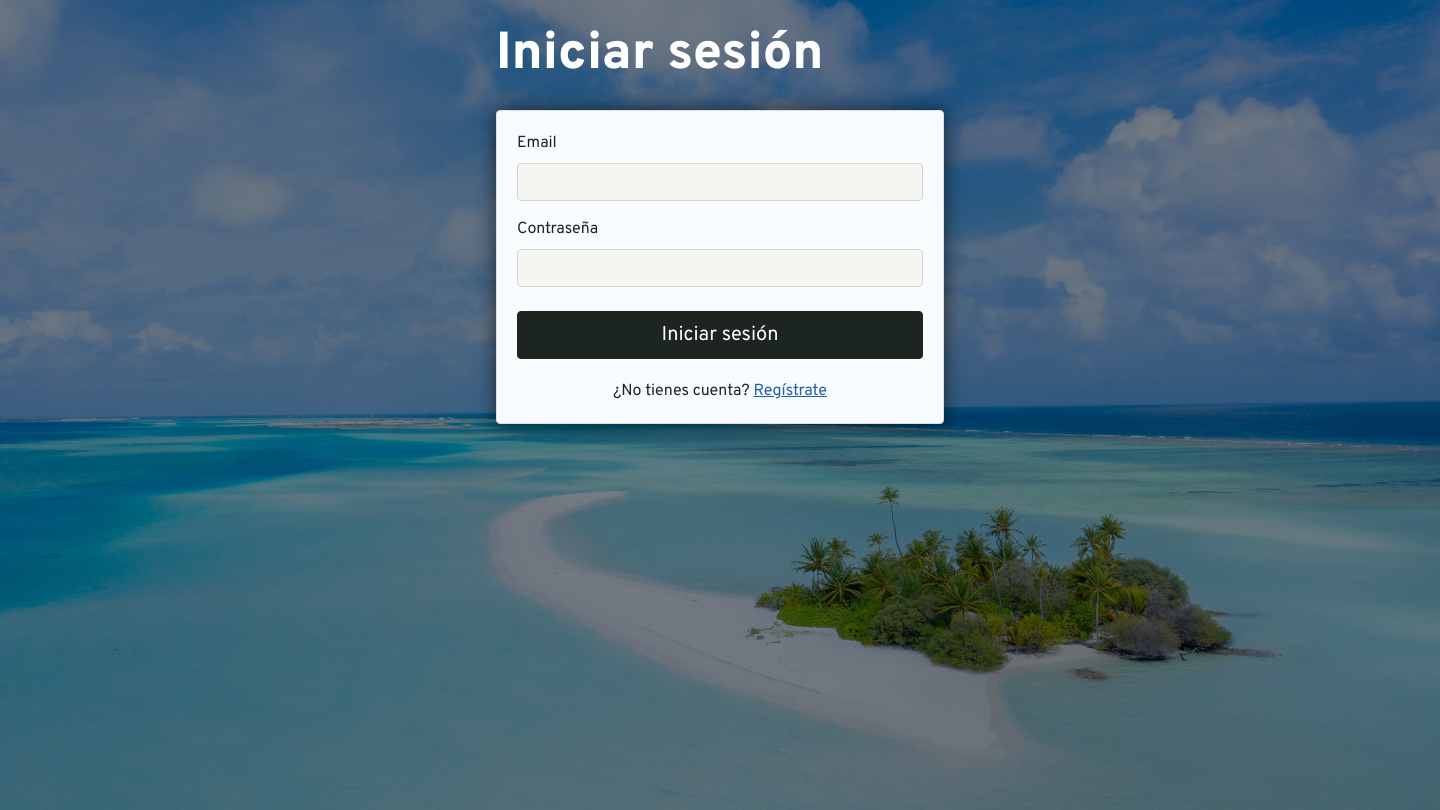
Scenario: B2 LoginPage › the button is disabled while the request is pending
In the field labelled "Email": (720, 182) [517,163,923,201], type "ana@example.com"
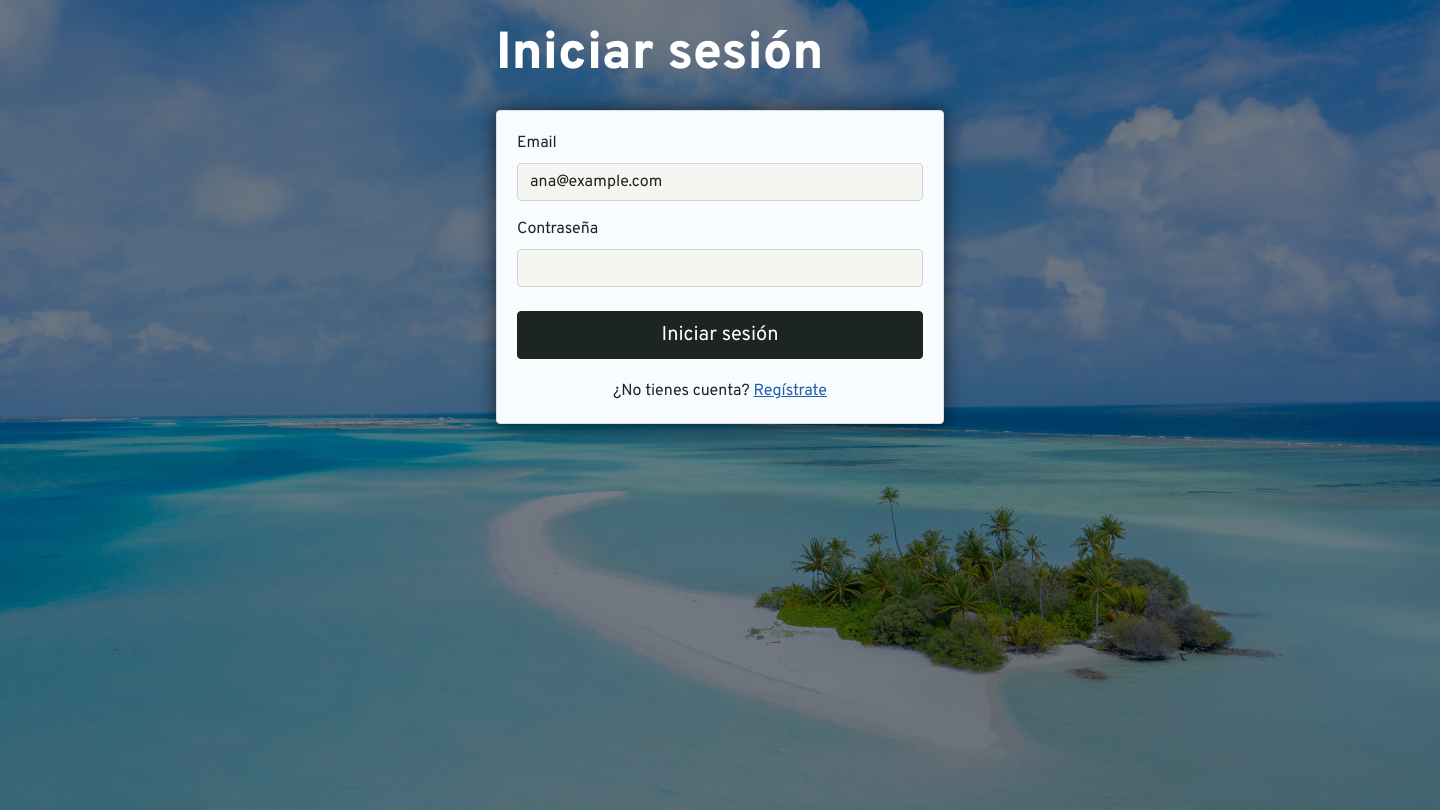
In the password field labelled "Contraseña": (720, 268) [517,249,923,287], type "secret-pass"
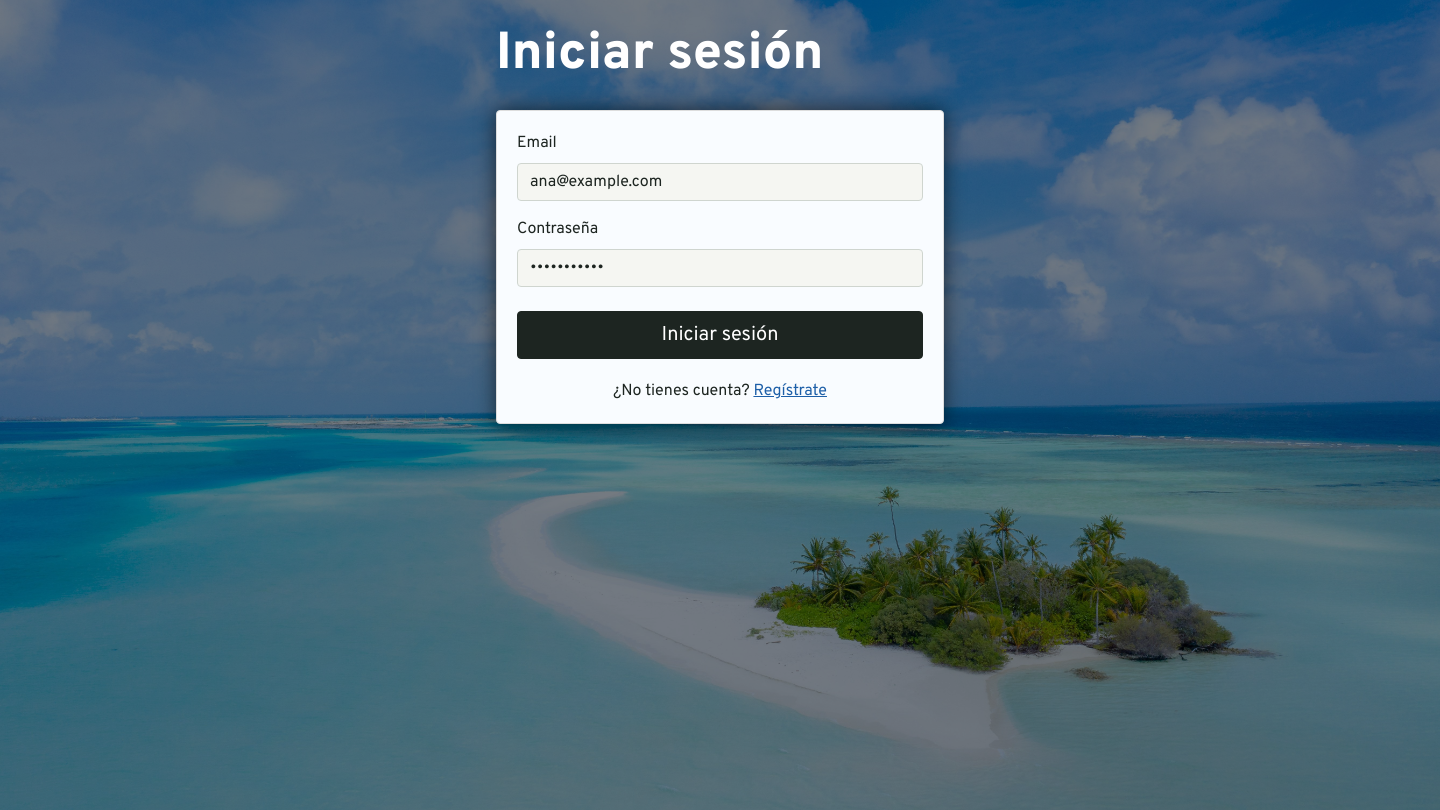
Click the button "Iniciar sesión": (720, 335) [517,311,923,359]
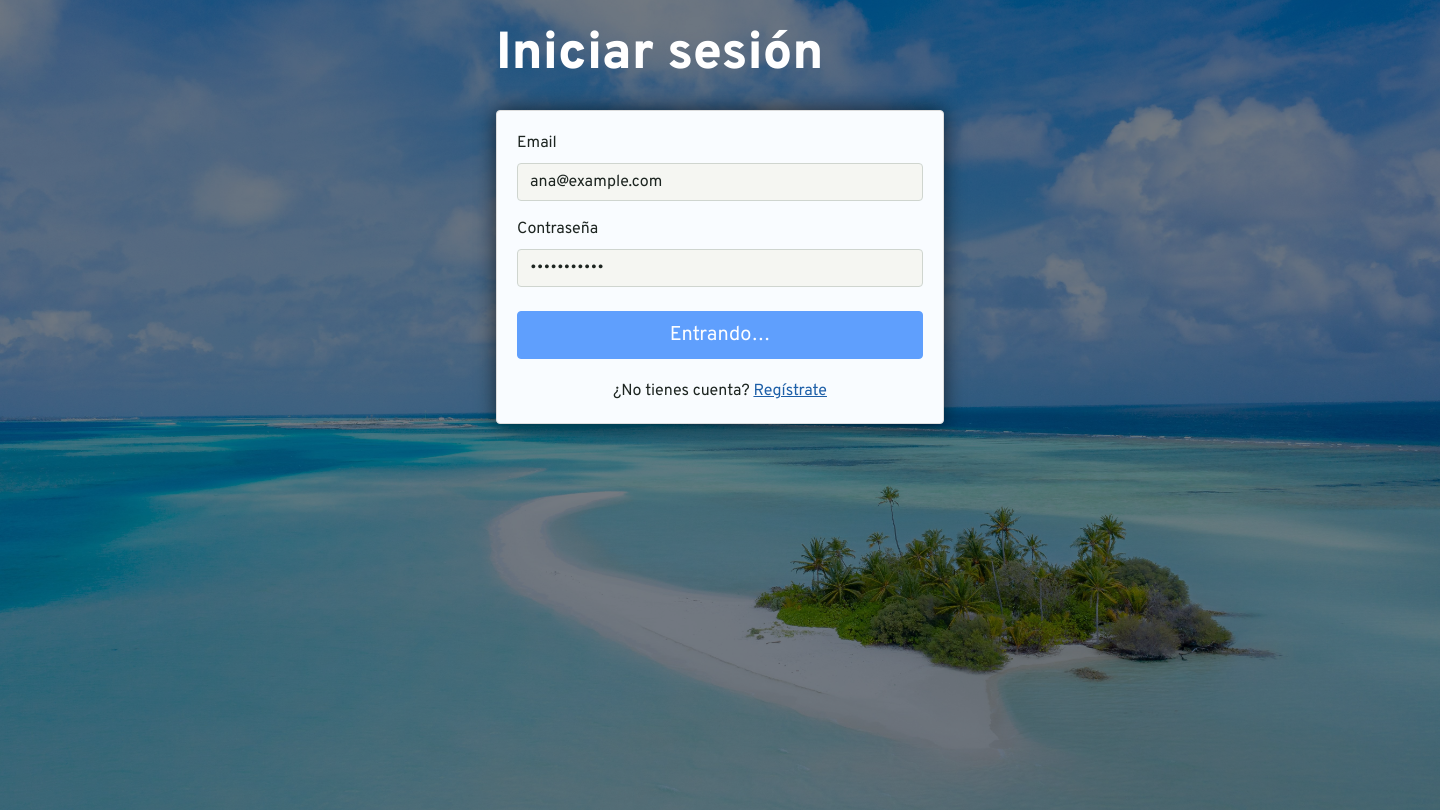
Result: the button "Entrando…" is disabled at [517,311,923,359]
